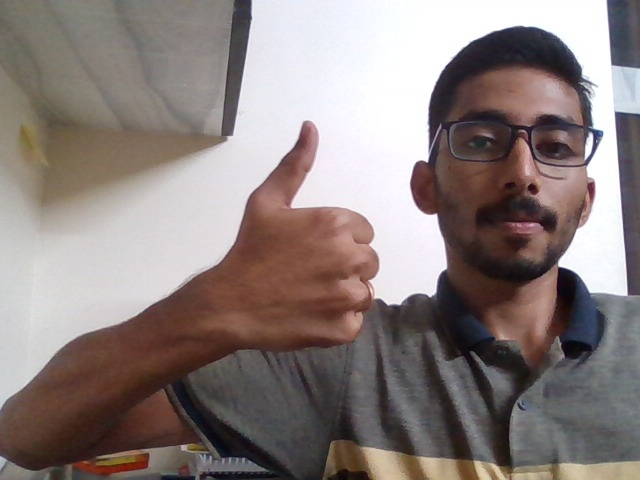Yes: (205, 104, 397, 386)
